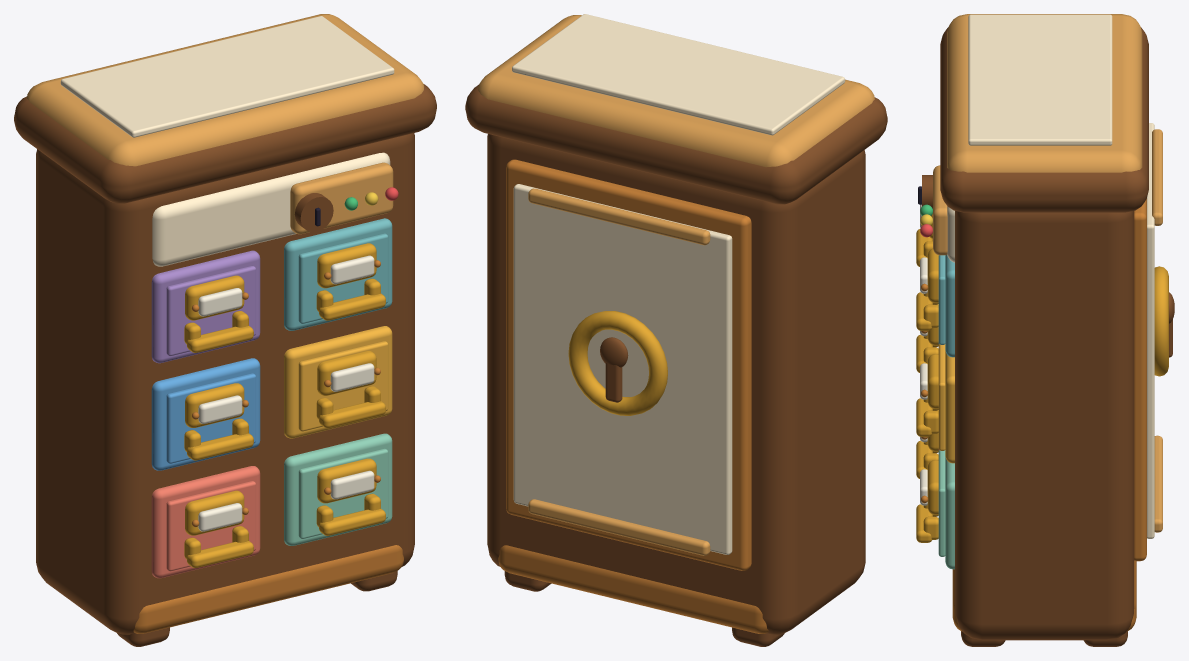
The model's file is archive-cabinet.glb.
The picture shows the model from 3 angles, left to right: view 1: azimuth 30°, elevation 25°; view 2: azimuth 150°, elevation 25°; view 3: azimuth 270°, elevation 25°; orthographic projection.
Visible parts, largest first — view 1: cabinet-body-closed-shell-and-recessed-plinth-surface-0, substantial-rounded-top-cornice-surface-4, substantial-rounded-top-cornice-surface-0, substantial-rounded-top-cornice-surface-2, privacy-header-and-compact-lock-panel-surface-0, cabinet-body-closed-shell-and-recessed-plinth-surface-4, privacy-header-and-compact-lock-panel-surface-2, consent-drawer-5-surface-2, consent-drawer-3-surface-2, consent-drawer-1-surface-2, consent-drawer-4-surface-2, consent-drawer-6-surface-2 (+26 smaller); view 2: fully-finished-rear-panel-with-seal-and-service-rail-surface (×7), cabinet-body-closed-shell-and-recessed-plinth-surface-0, substantial-rounded-top-cornice-surface-4, substantial-rounded-top-cornice-surface-0, substantial-rounded-top-cornice-surface-2, cabinet-body-closed-shell-and-recessed-plinth-surface-4; view 3: cabinet-body-closed-shell-and-recessed-plinth-surface-0, substantial-rounded-top-cornice-surface-4, substantial-rounded-top-cornice-surface-2, fully-finished-rear-panel-with-seal-and-service-rail-surface (×5), substantial-rounded-top-cornice-surface-0, privacy-header-and-compact-lock-panel-surface-2, consent-drawer-4-surface-2, consent-drawer-2-surface-2, consent-drawer-6-surface-2, consent-drawer-2-surface-4, consent-drawer-4-surface-4, consent-drawer-6-surface-4 (+8 smaller).
Part boxes in pixels (<box>): cabinet-body-closed-shell-and-recessed-plinth-surface-0: <box>36,133,414,634</box>; substantial-rounded-top-cornice-surface-4: <box>60,16,394,137</box>; substantial-rounded-top-cornice-surface-0: <box>14,84,436,203</box>; substantial-rounded-top-cornice-surface-2: <box>26,14,424,166</box>; privacy-header-and-compact-lock-panel-surface-0: <box>152,152,390,266</box>; cabinet-body-closed-shell-and-recessed-plinth-surface-4: <box>133,545,403,633</box>; privacy-header-and-compact-lock-panel-surface-2: <box>290,162,393,234</box>; consent-drawer-5-surface-2: <box>151,250,260,363</box>; consent-drawer-3-surface-2: <box>151,358,260,470</box>; consent-drawer-1-surface-2: <box>151,466,260,578</box>; consent-drawer-4-surface-2: <box>284,326,392,438</box>; consent-drawer-6-surface-2: <box>284,218,392,330</box>; fully-finished-rear-panel-with-seal-and-service-rail-surface (×7): <box>506,159,751,570</box>; cabinet-body-closed-shell-and-recessed-plinth-surface-0: <box>487,134,865,634</box>; substantial-rounded-top-cornice-surface-4: <box>512,14,845,135</box>; substantial-rounded-top-cornice-surface-0: <box>465,85,887,204</box>; substantial-rounded-top-cornice-surface-2: <box>478,15,874,167</box>; cabinet-body-closed-shell-and-recessed-plinth-surface-4: <box>498,545,768,633</box>; cabinet-body-closed-shell-and-recessed-plinth-surface-0: <box>955,211,1134,640</box>; substantial-rounded-top-cornice-surface-4: <box>968,14,1112,145</box>; substantial-rounded-top-cornice-surface-2: <box>947,14,1142,172</box>; fully-finished-rear-panel-with-seal-and-service-rail-surface (×5): <box>1134,123,1168,561</box>; substantial-rounded-top-cornice-surface-0: <box>940,27,1148,212</box>; privacy-header-and-compact-lock-panel-surface-2: <box>933,165,947,255</box>; consent-drawer-4-surface-2: <box>945,350,954,463</box>; consent-drawer-2-surface-2: <box>945,456,954,569</box>; consent-drawer-6-surface-2: <box>945,255,954,357</box>; consent-drawer-2-surface-4: <box>938,450,945,556</box>; consent-drawer-4-surface-4: <box>938,344,945,450</box>; consent-drawer-6-surface-4: <box>938,255,945,344</box>.
Bounding box in the file's own units: 1.18 × 1.75 × 0.8048.
